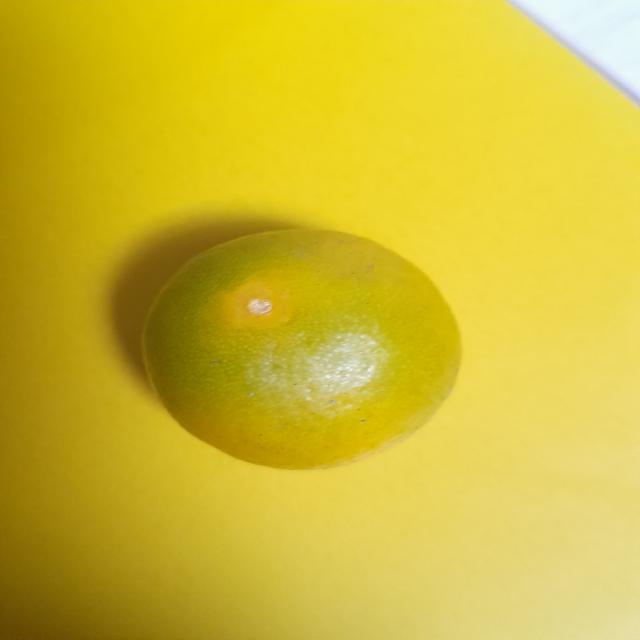greening: (132, 219, 474, 475)
